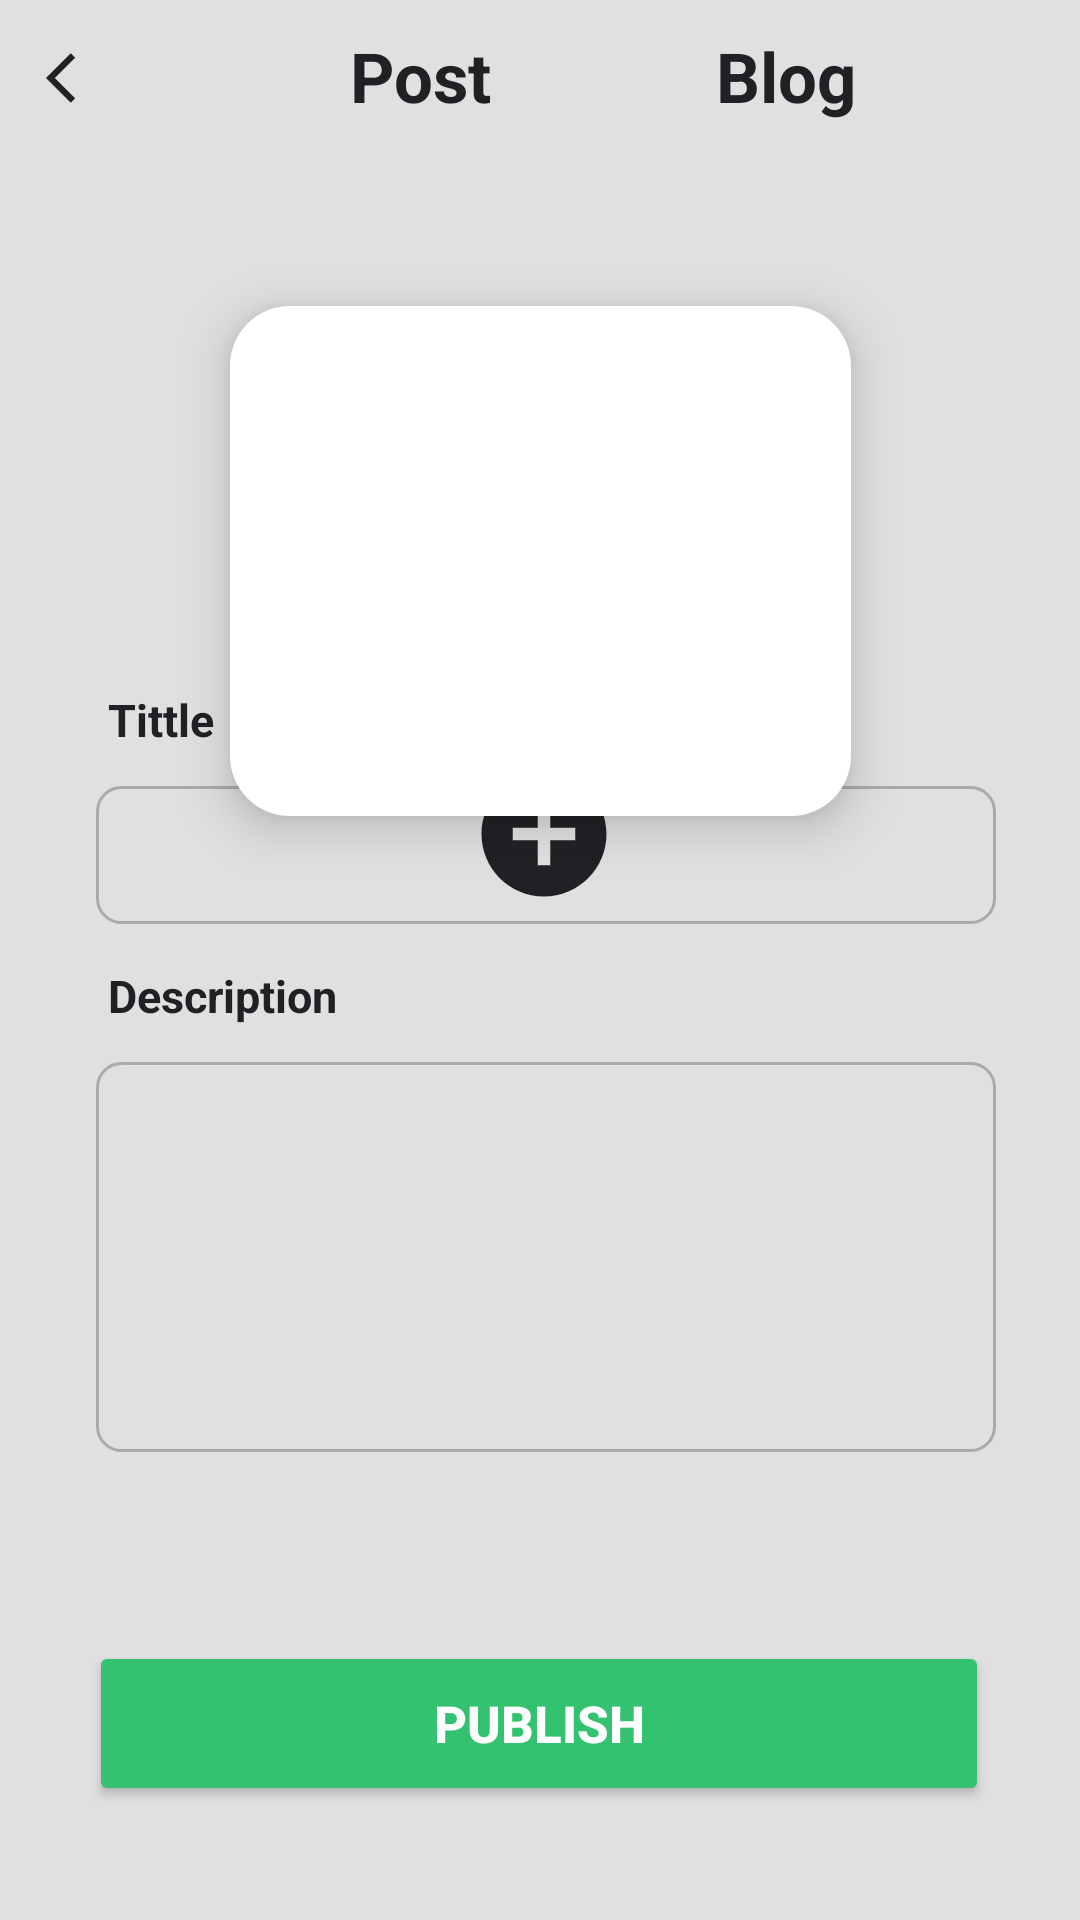

Icons on this 1080*1920 Android screen, each with its box as (x1, y1, x2, y2):
back: (46, 53, 75, 103)
